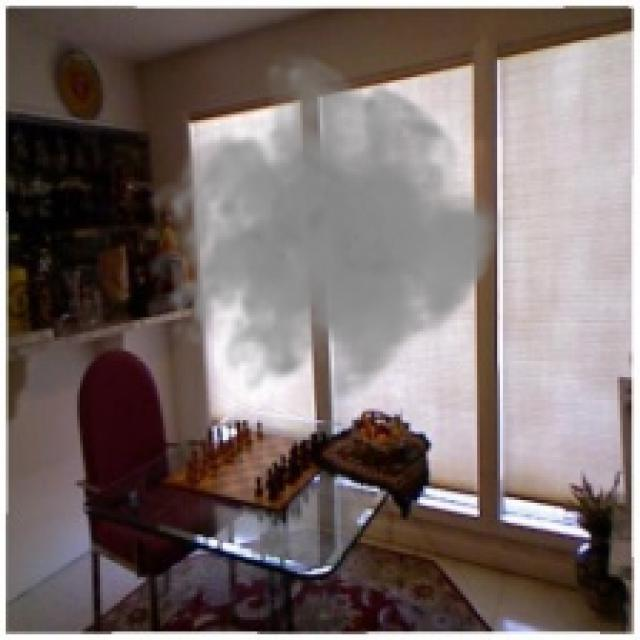smoke: (145, 49, 506, 414)
